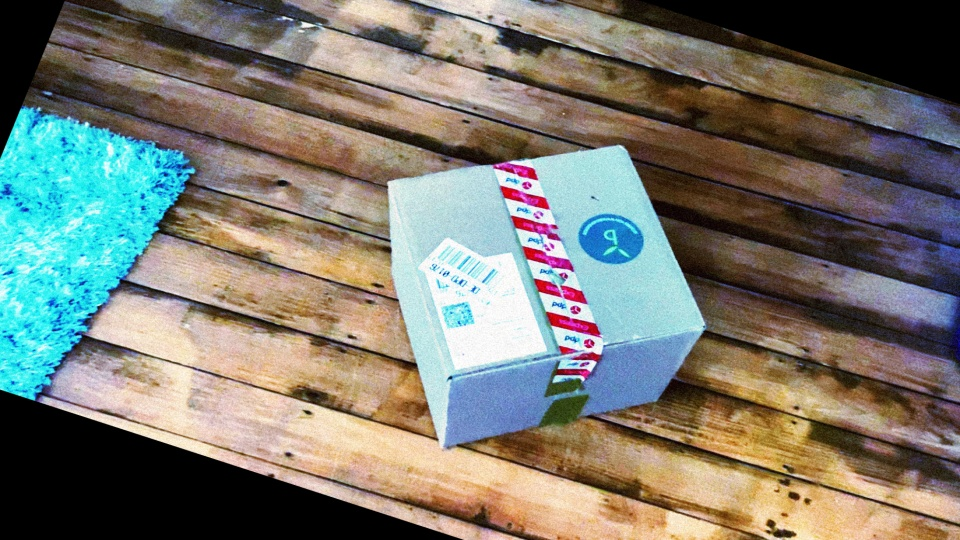good-parcel: (377, 145, 709, 456)
